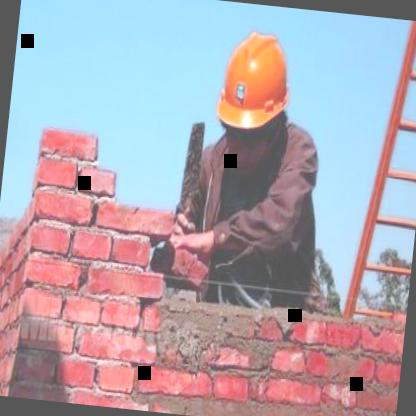helmet: (209, 20, 300, 166)
